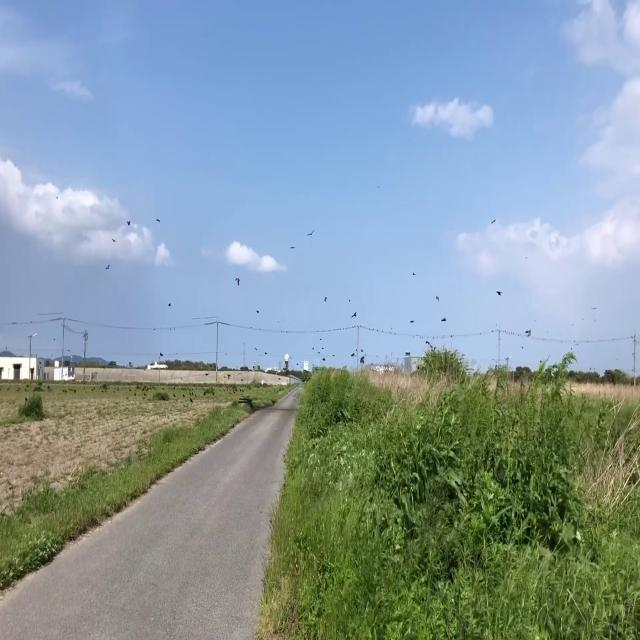bird: (496, 284, 502, 298), (526, 325, 531, 337), (236, 274, 240, 288), (126, 216, 130, 230), (112, 233, 116, 245), (352, 306, 356, 318), (324, 290, 328, 302), (157, 213, 160, 228), (436, 290, 440, 301)
